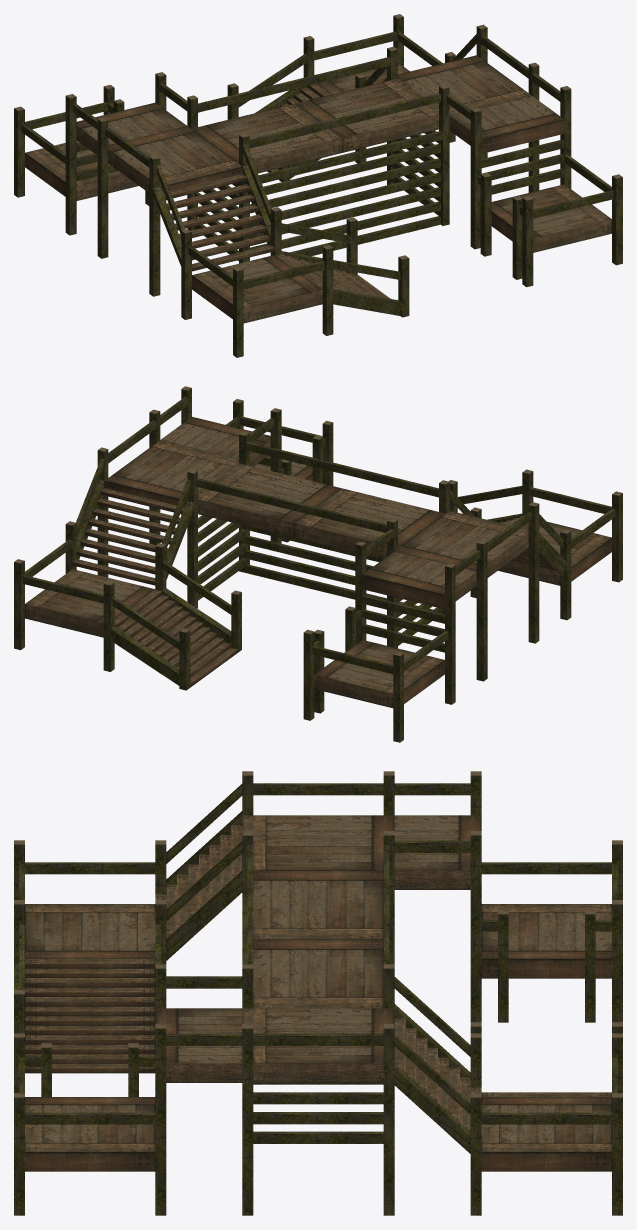
The model's file is wooddungeonInt3.gltf.
3 views of the same model, one above another, from view 1: azimuth 30°, elevation 25°; view 2: azimuth 150°, elevation 25°; view 3: azimuth 270°, elevation 25° (orthographic). The views are drawn at different scales.
Visible parts, largest first — view 1: wooddungeonInt3; view 2: wooddungeonInt3; view 3: wooddungeonInt3.
Part boxes in pixels (x1=…): wooddungeonInt3: x1=14, y1=14, x2=622, y2=357; wooddungeonInt3: x1=14, y1=386, x2=622, y2=742; wooddungeonInt3: x1=14, y1=771, x2=622, y2=1215.
Size of the model in its own units: 28 by 9.5 by 28.
2 materials, 2 textured.
